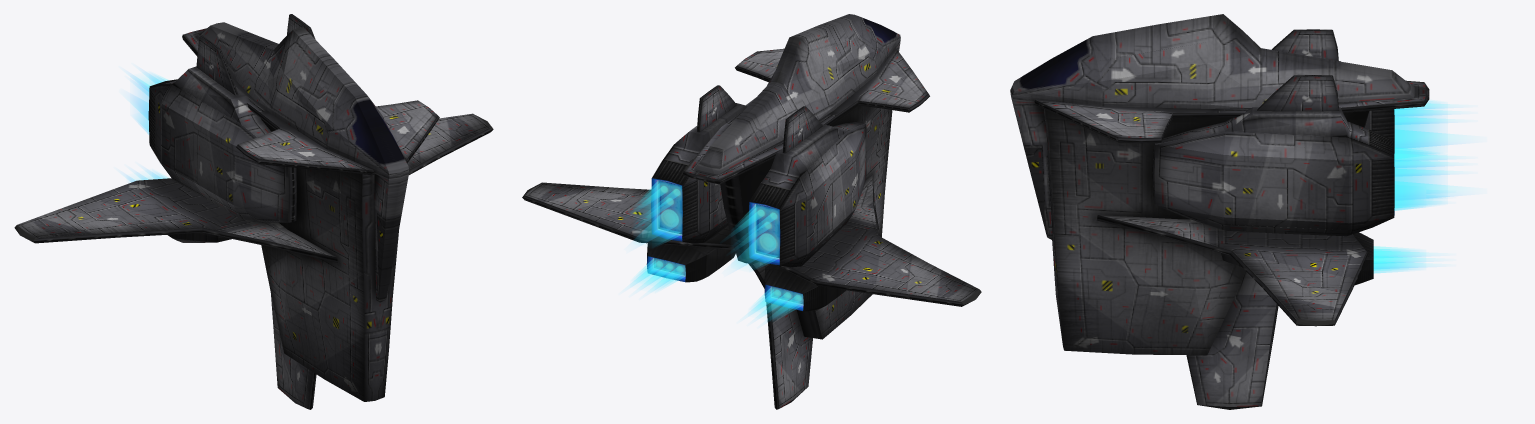
The model's file is admonisher.gltf.
The picture shows the model from 3 angles, left to right: view 1: azimuth 30°, elevation 25°; view 2: azimuth 150°, elevation 25°; view 3: azimuth 270°, elevation 25°; orthographic projection. The views are drawn at different scales.
Visible parts, largest first — view 1: body_glow, engine_glow; view 2: body_glow, engine_glow, engine_beam.001; view 3: body_glow, engine_glow, engine_beam.001.
Boxes of the visible parts, <box> form: body_glow: <box>14,14,493,409</box>; engine_glow: <box>135,75,168,179</box>; body_glow: <box>522,14,981,409</box>; engine_glow: <box>636,180,803,317</box>; engine_beam.001: <box>633,186,800,317</box>; body_glow: <box>1010,14,1429,409</box>; engine_glow: <box>1373,101,1440,273</box>; engine_beam.001: <box>1374,104,1455,268</box>.
Bounding box in the file's own units: 41.58 × 32.09 × 37.7.
Materials: 3 (3 with a texture image).
